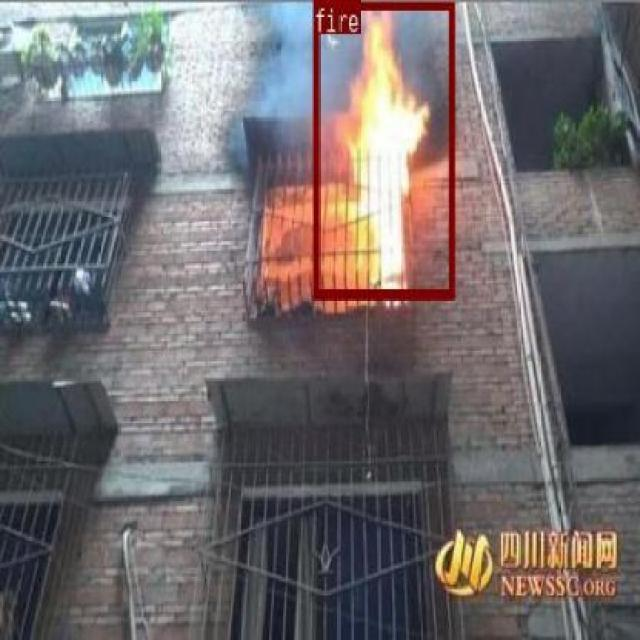Fire: (312, 0, 453, 295)
Smoke: (258, 6, 306, 114)
